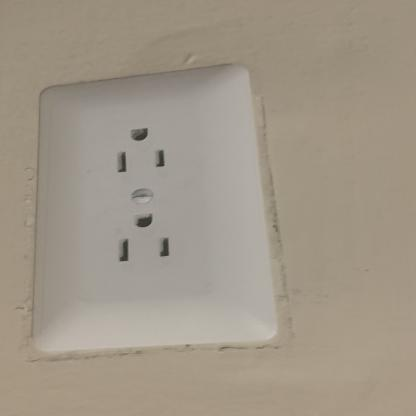OUTLET: (35, 66, 264, 354)
